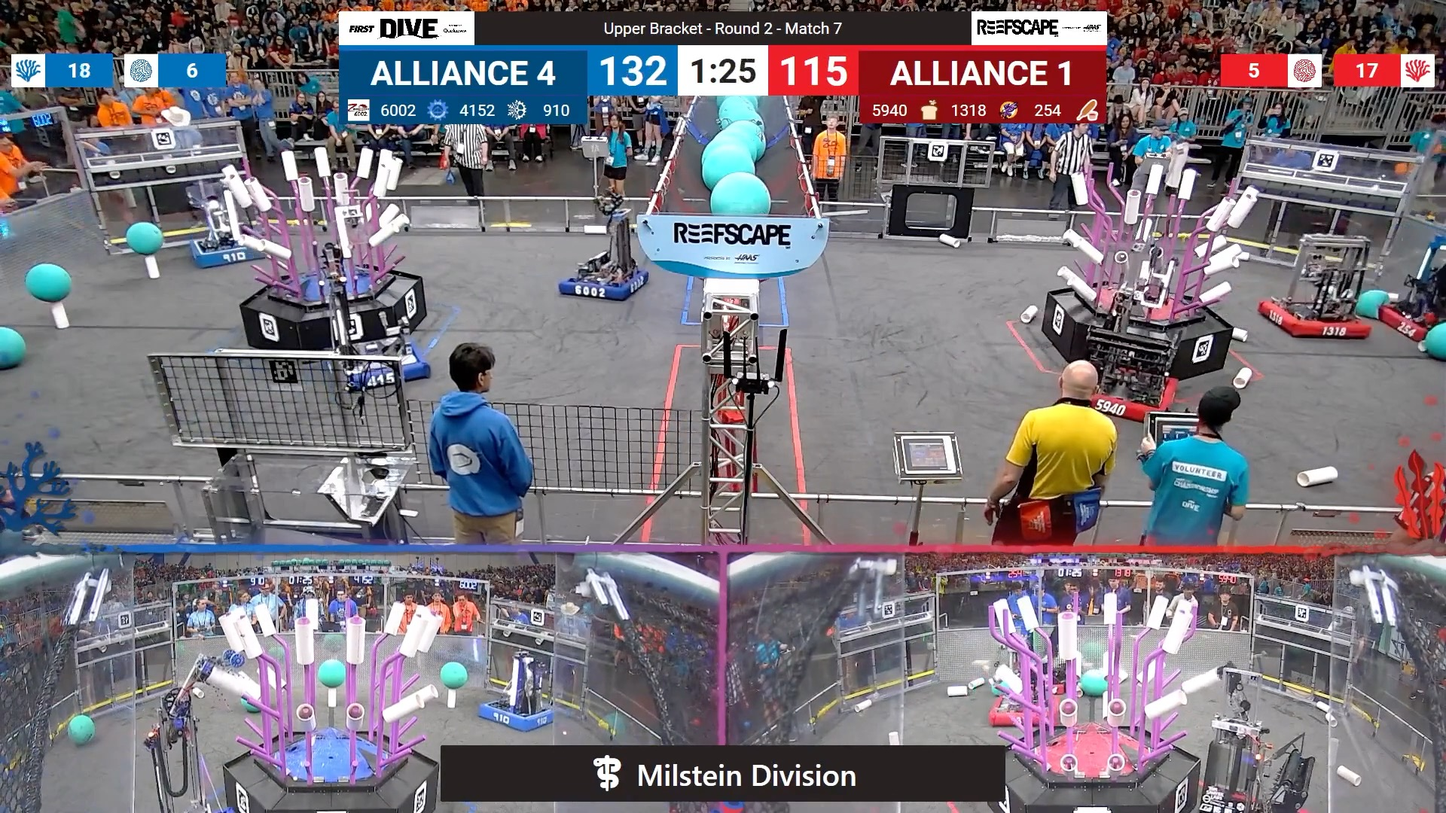bumpers: (1251, 293, 1380, 348), (1075, 368, 1184, 429), (322, 337, 437, 391), (560, 262, 658, 303), (1376, 291, 1446, 346), (181, 234, 268, 273), (474, 698, 564, 735), (1210, 788, 1319, 813)
